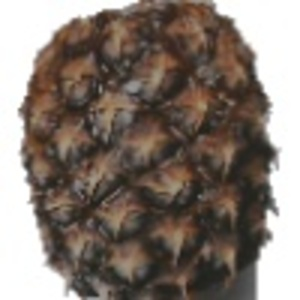abacaxi: (15, 3, 281, 298)
